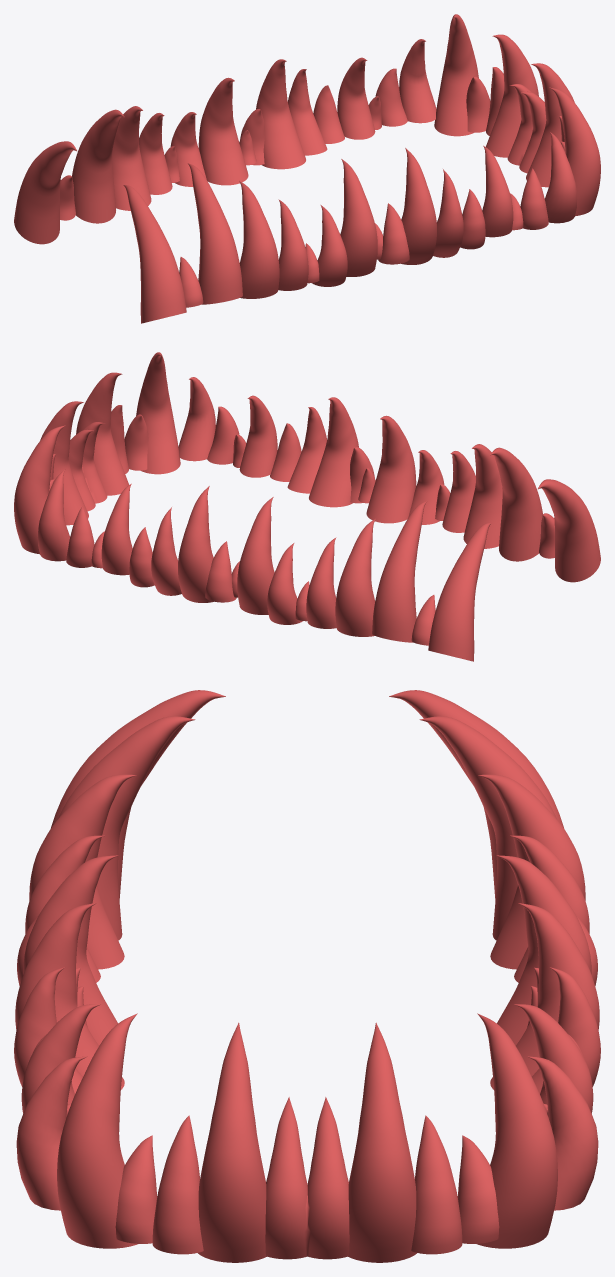
File: Pinchos_zona1 .fbx
The picture shows the model from 3 angles, top to bottom: view 1: azimuth 30°, elevation 25°; view 2: azimuth 150°, elevation 25°; view 3: azimuth 270°, elevation 25°; orthographic projection. The views are drawn at different scales.
Visible parts, largest first — view 1: Cylinder003; view 2: Cylinder003; view 3: Cylinder003.
Part boxes in pixels (x1=…): Cylinder003: x1=14, y1=14, x2=600, y2=323; Cylinder003: x1=14, y1=352, x2=600, y2=661; Cylinder003: x1=14, y1=690, x2=600, y2=1262.
Bounding box in the file's own units: 6385 × 1684 × 3813.
